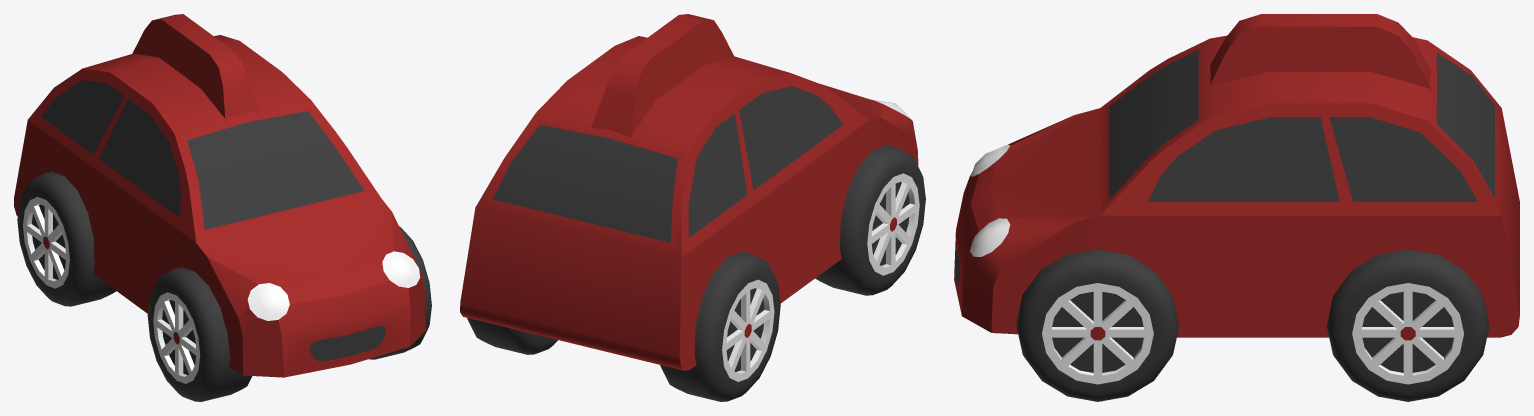
The model's file is Car_Pizza.fbx.
The picture shows the model from 3 angles, left to right: view 1: azimuth 30°, elevation 25°; view 2: azimuth 150°, elevation 25°; view 3: azimuth 270°, elevation 25°; orthographic projection. The views are drawn at different scales.
Parts seen in each view (by area): view 1: Car_Pizza, Wheel, Top.001; view 2: Car_Pizza, Wheel, Top.001; view 3: Car_Pizza, Wheel, Top.001.
Part boxes in pixels (x1,y1,x2,y2): Car_Pizza: (14,35,425,377); Wheel: (17,171,431,401); Top.001: (132,14,259,118); Car_Pizza: (460,36,918,370); Wheel: (467,145,925,401); Top.001: (591,14,734,137); Car_Pizza: (954,35,1519,337); Wheel: (1016,249,1489,401); Top.001: (1210,14,1431,90).
Size of the model in its own units: 239 by 435 by 273.
